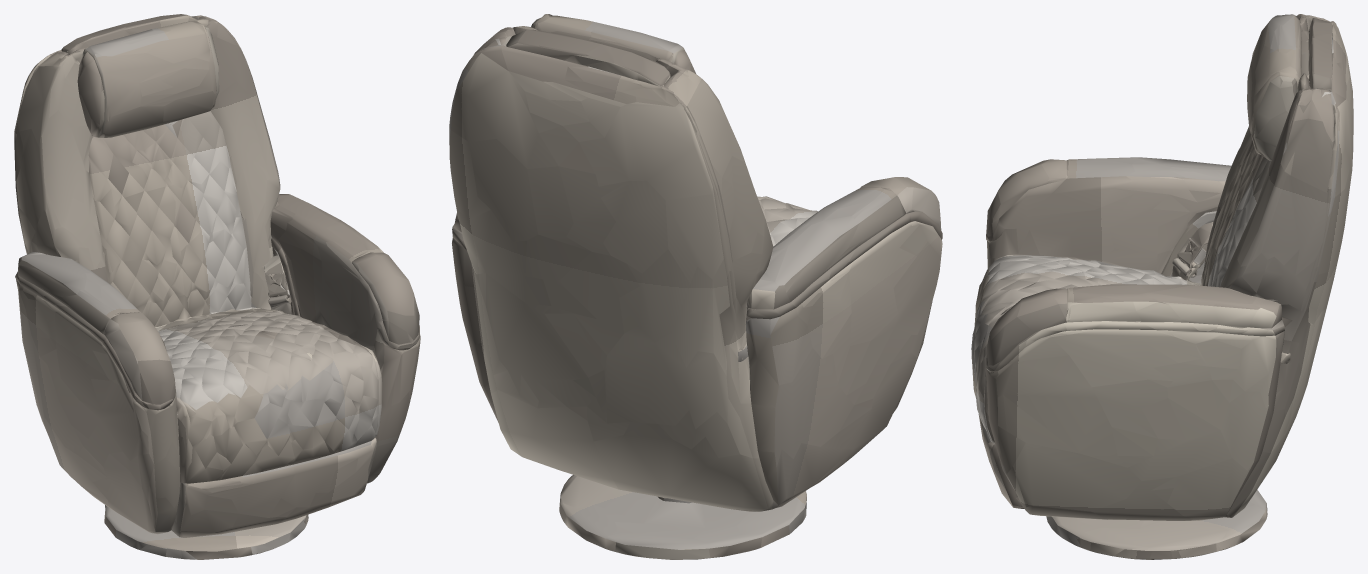
The model's file is cab_seat.glb.
3 views of the same model, side by side, from view 1: azimuth 30°, elevation 25°; view 2: azimuth 150°, elevation 25°; view 3: azimuth 270°, elevation 25° (orthographic). The views are drawn at different scales.
Parts seen in each view (by area): view 1: LO; view 2: LO; view 3: LO.
Part boxes in pixels (<box>): LO: <box>14,14,420,559</box>; LO: <box>449,14,942,559</box>; LO: <box>971,14,1353,559</box>.
Size of the model in its own units: 0.7772 by 1.12 by 0.8112.
Materials: 1 (1 with a texture image).
